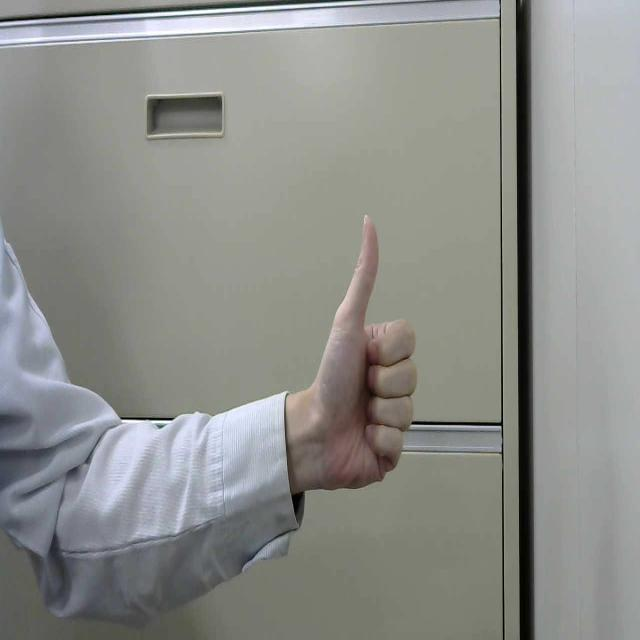Hand: (280, 207, 448, 534)
